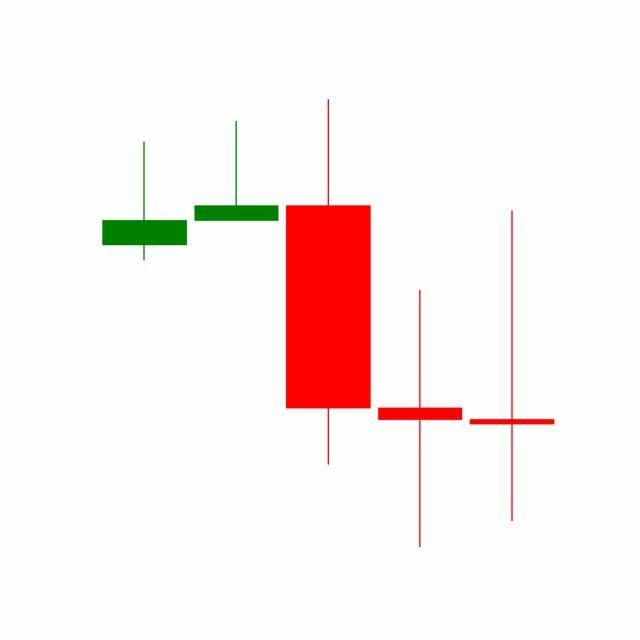Spinning Top: (466, 207, 559, 525)
